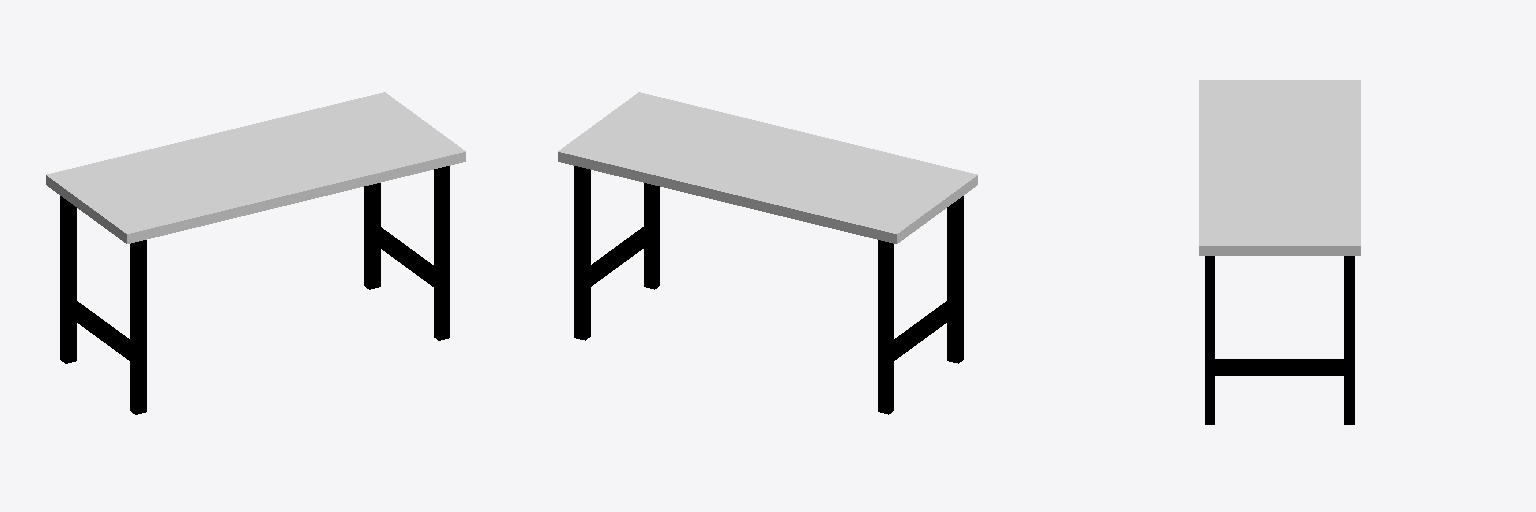
File: Table.obj
3 views of the same model, side by side, from view 1: azimuth 30°, elevation 25°; view 2: azimuth 150°, elevation 25°; view 3: azimuth 270°, elevation 25° (orthographic).
Visible parts, largest first — view 1: object2, object1; view 2: object2, object1; view 3: object2, object1.
Part boxes in pixels (left/top/right/bottom): object2: left=46, top=92, right=465, bottom=243; object1: left=60, top=166, right=449, bottom=414; object2: left=558, top=92, right=977, bottom=243; object1: left=574, top=166, right=963, bottom=414; object2: left=1199, top=80, right=1360, bottom=255; object1: left=1205, top=256, right=1354, bottom=424.
Bounding box in the file's own units: 72.2 × 37.74 × 30.